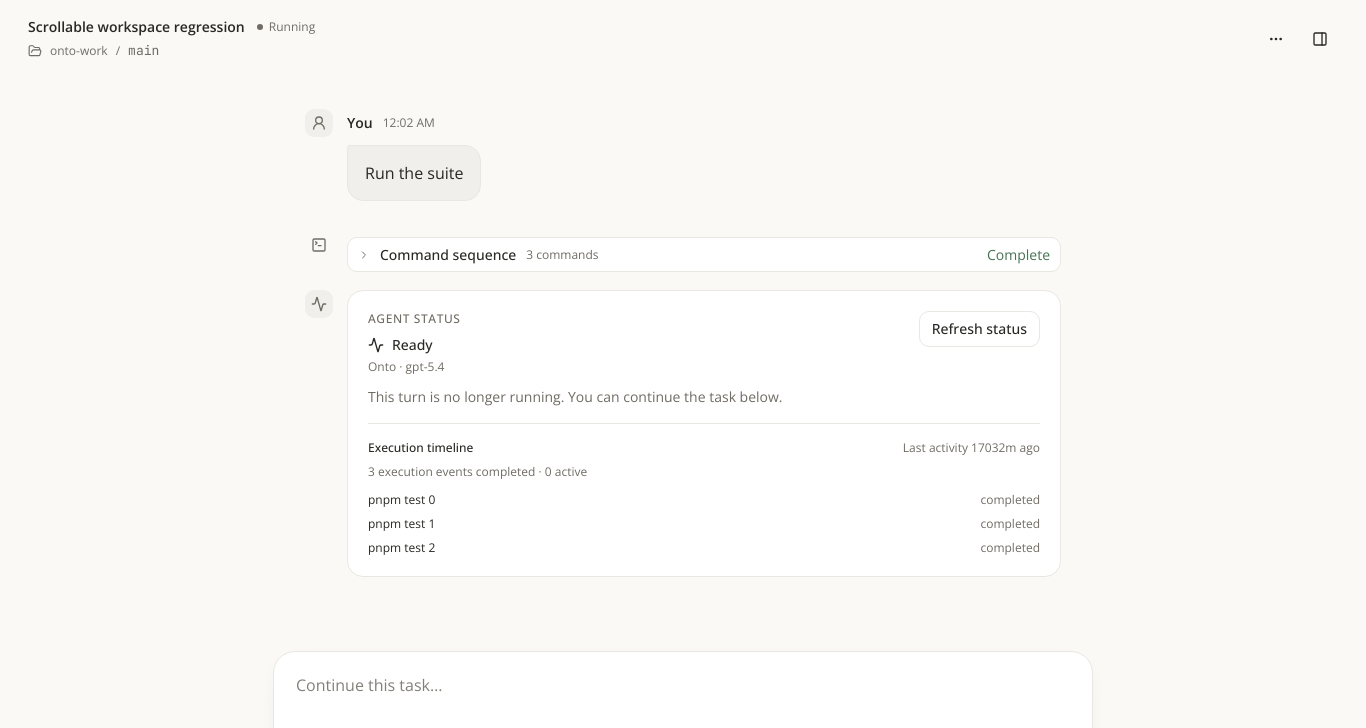
Test case: WorkspaceView scrolling › collapses a consecutive command run into one spine node
Click the button "Command sequence 3 commands Complete": (448, 254) [347,237,1061,272]
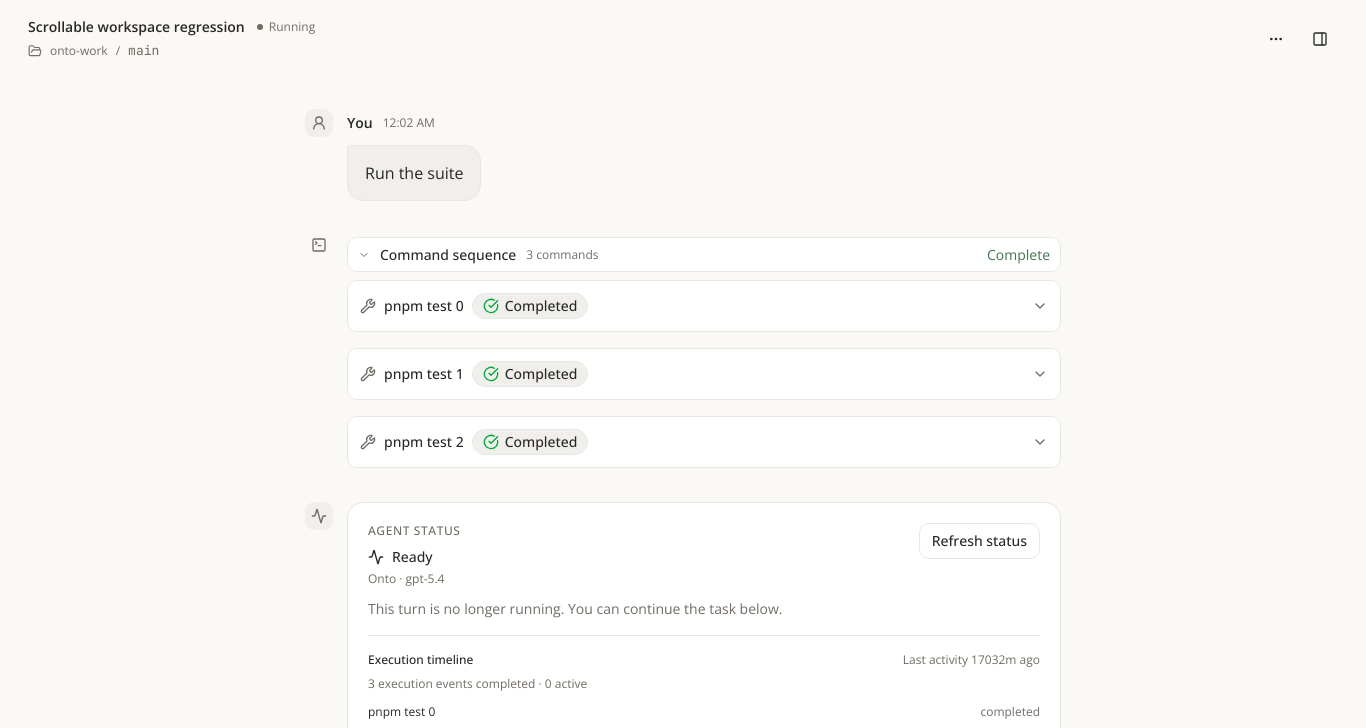
Now the 1st text "pnpm test 0" is shown, box [384,296,464,316]
